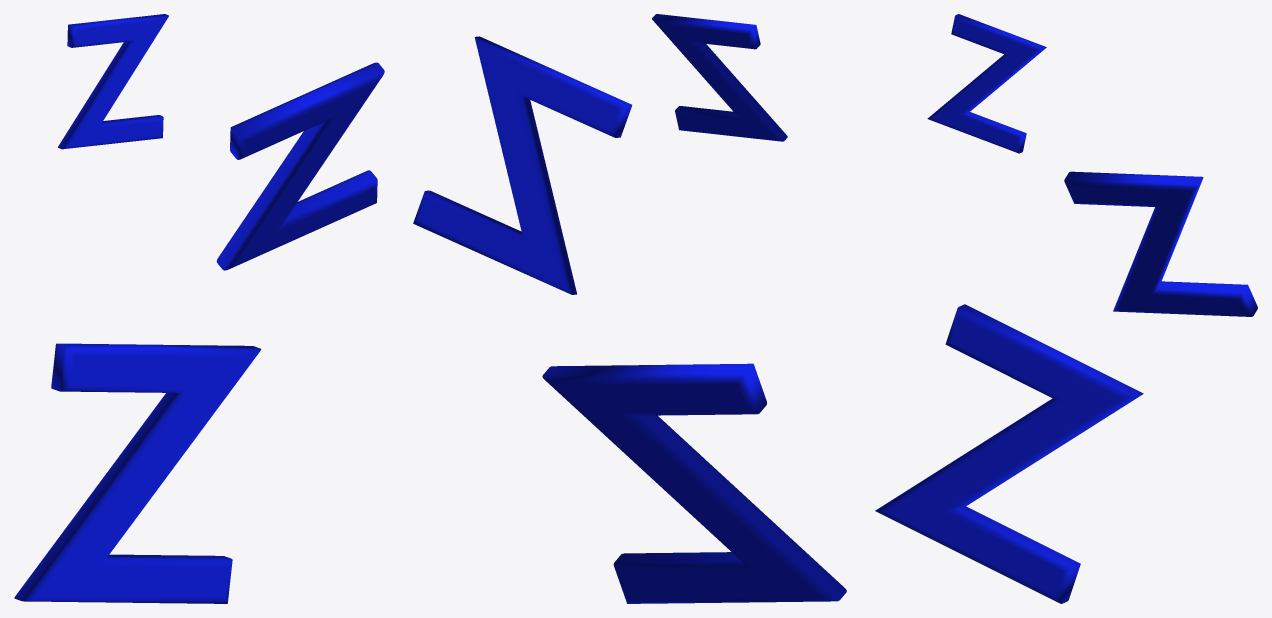
File: Sleep.fbx
The picture shows the model from 3 angles, left to right: view 1: azimuth 30°, elevation 25°; view 2: azimuth 150°, elevation 25°; view 3: azimuth 330°, elevation 25°; orthographic projection. The views are drawn at different scales.
Visible parts, largest first — view 1: Text; view 2: Text; view 3: Text.
Boxes of the visible parts, bbox=[...] form: Text: bbox=[14, 14, 384, 603]; Text: bbox=[413, 14, 846, 603]; Text: bbox=[875, 14, 1257, 603].
Bounding box in the file's own units: 0.7662 × 1.14 × 0.146.
